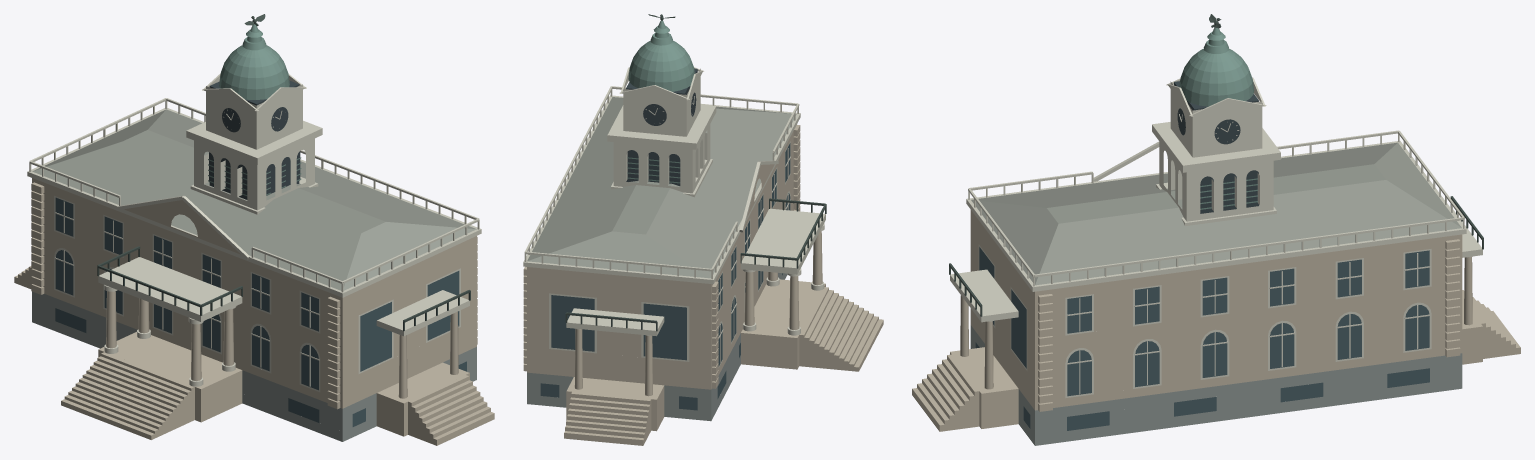
Rendered from athens-city-hall-far.glb.
3 renders of one model, left to right at view 1: azimuth 30°, elevation 25°; view 2: azimuth 150°, elevation 25°; view 3: azimuth 270°, elevation 25°, orthographic. The views are drawn at different scales.
Parts seen in each view (by area): view 1: athens-city-hall-0-stone, athens-city-hall-0-trim, athens-city-hall-0-roof, athens-city-hall-0-glass, athens-city-hall-0-base, athens-city-hall-0-copper, athens-city-hall-0-clock, athens-city-hall-0-iron; view 2: athens-city-hall-0-stone, athens-city-hall-0-roof, athens-city-hall-0-trim, athens-city-hall-0-glass, athens-city-hall-0-base, athens-city-hall-0-copper, athens-city-hall-0-clock, athens-city-hall-0-iron; view 3: athens-city-hall-0-stone, athens-city-hall-0-roof, athens-city-hall-0-trim, athens-city-hall-0-glass, athens-city-hall-0-base, athens-city-hall-0-copper, athens-city-hall-0-clock, athens-city-hall-0-iron.
Boxes of the visible parts, <box> form: athens-city-hall-0-stone: <box>14,178,494,445</box>; athens-city-hall-0-trim: <box>27,73,481,392</box>; athens-city-hall-0-roof: <box>32,109,476,290</box>; athens-city-hall-0-glass: <box>55,197,466,426</box>; athens-city-hall-0-base: <box>32,291,476,441</box>; athens-city-hall-0-copper: <box>208,24,301,195</box>; athens-city-hall-0-clock: <box>209,80,300,199</box>; athens-city-hall-0-iron: <box>97,14,470,331</box>; athens-city-hall-0-stone: <box>523,124,883,445</box>; athens-city-hall-0-roof: <box>527,97,796,278</box>; athens-city-hall-0-trim: <box>523,67,825,367</box>; athens-city-hall-0-glass: <box>540,143,790,410</box>; athens-city-hall-0-base: <box>527,273,787,421</box>; athens-city-hall-0-copper: <box>627,20,694,183</box>; athens-city-hall-0-clock: <box>626,68,697,186</box>; athens-city-hall-0-iron: <box>565,14,826,331</box>; athens-city-hall-0-stone: <box>912,210,1520,431</box>; athens-city-hall-0-roof: <box>971,142,1461,285</box>; athens-city-hall-0-trim: <box>950,77,1482,398</box>; athens-city-hall-0-glass: <box>975,247,1429,430</box>; athens-city-hall-0-base: <box>970,325,1462,445</box>; athens-city-hall-0-copper: <box>1179,27,1257,209</box>; athens-city-hall-0-clock: <box>1174,81,1258,213</box>; athens-city-hall-0-iron: <box>949,14,1483,316</box>.
Size of the model in its own units: 32.27 by 30.18 by 46.73.
